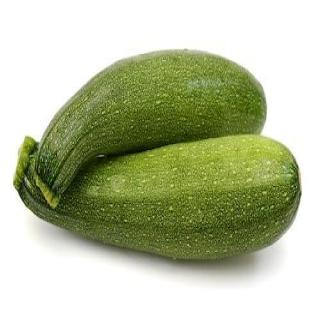Zucchini: (36, 51, 265, 206), (17, 136, 300, 259)
